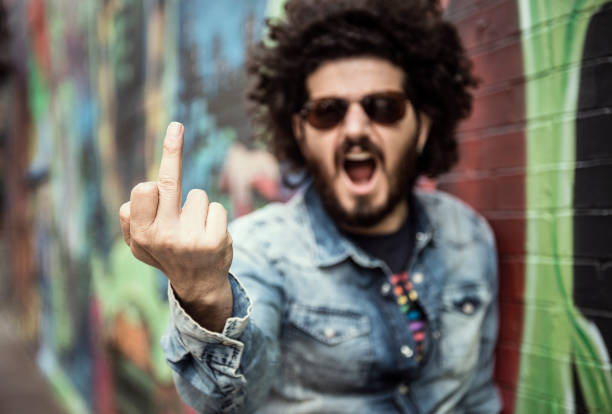insulting_gesture: (116, 120, 234, 287)
